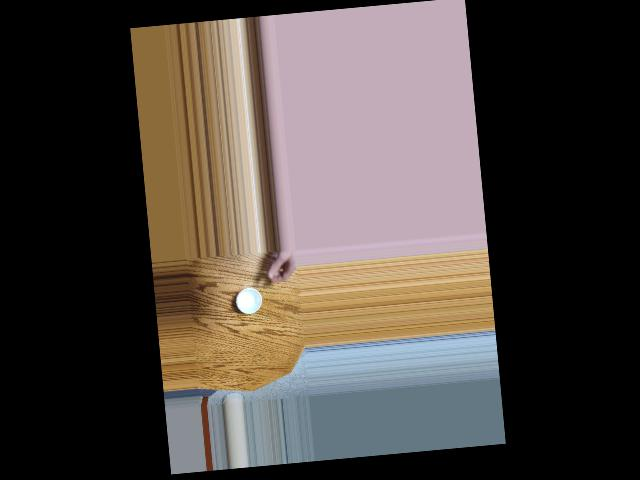cotage: (235, 282, 266, 317)
